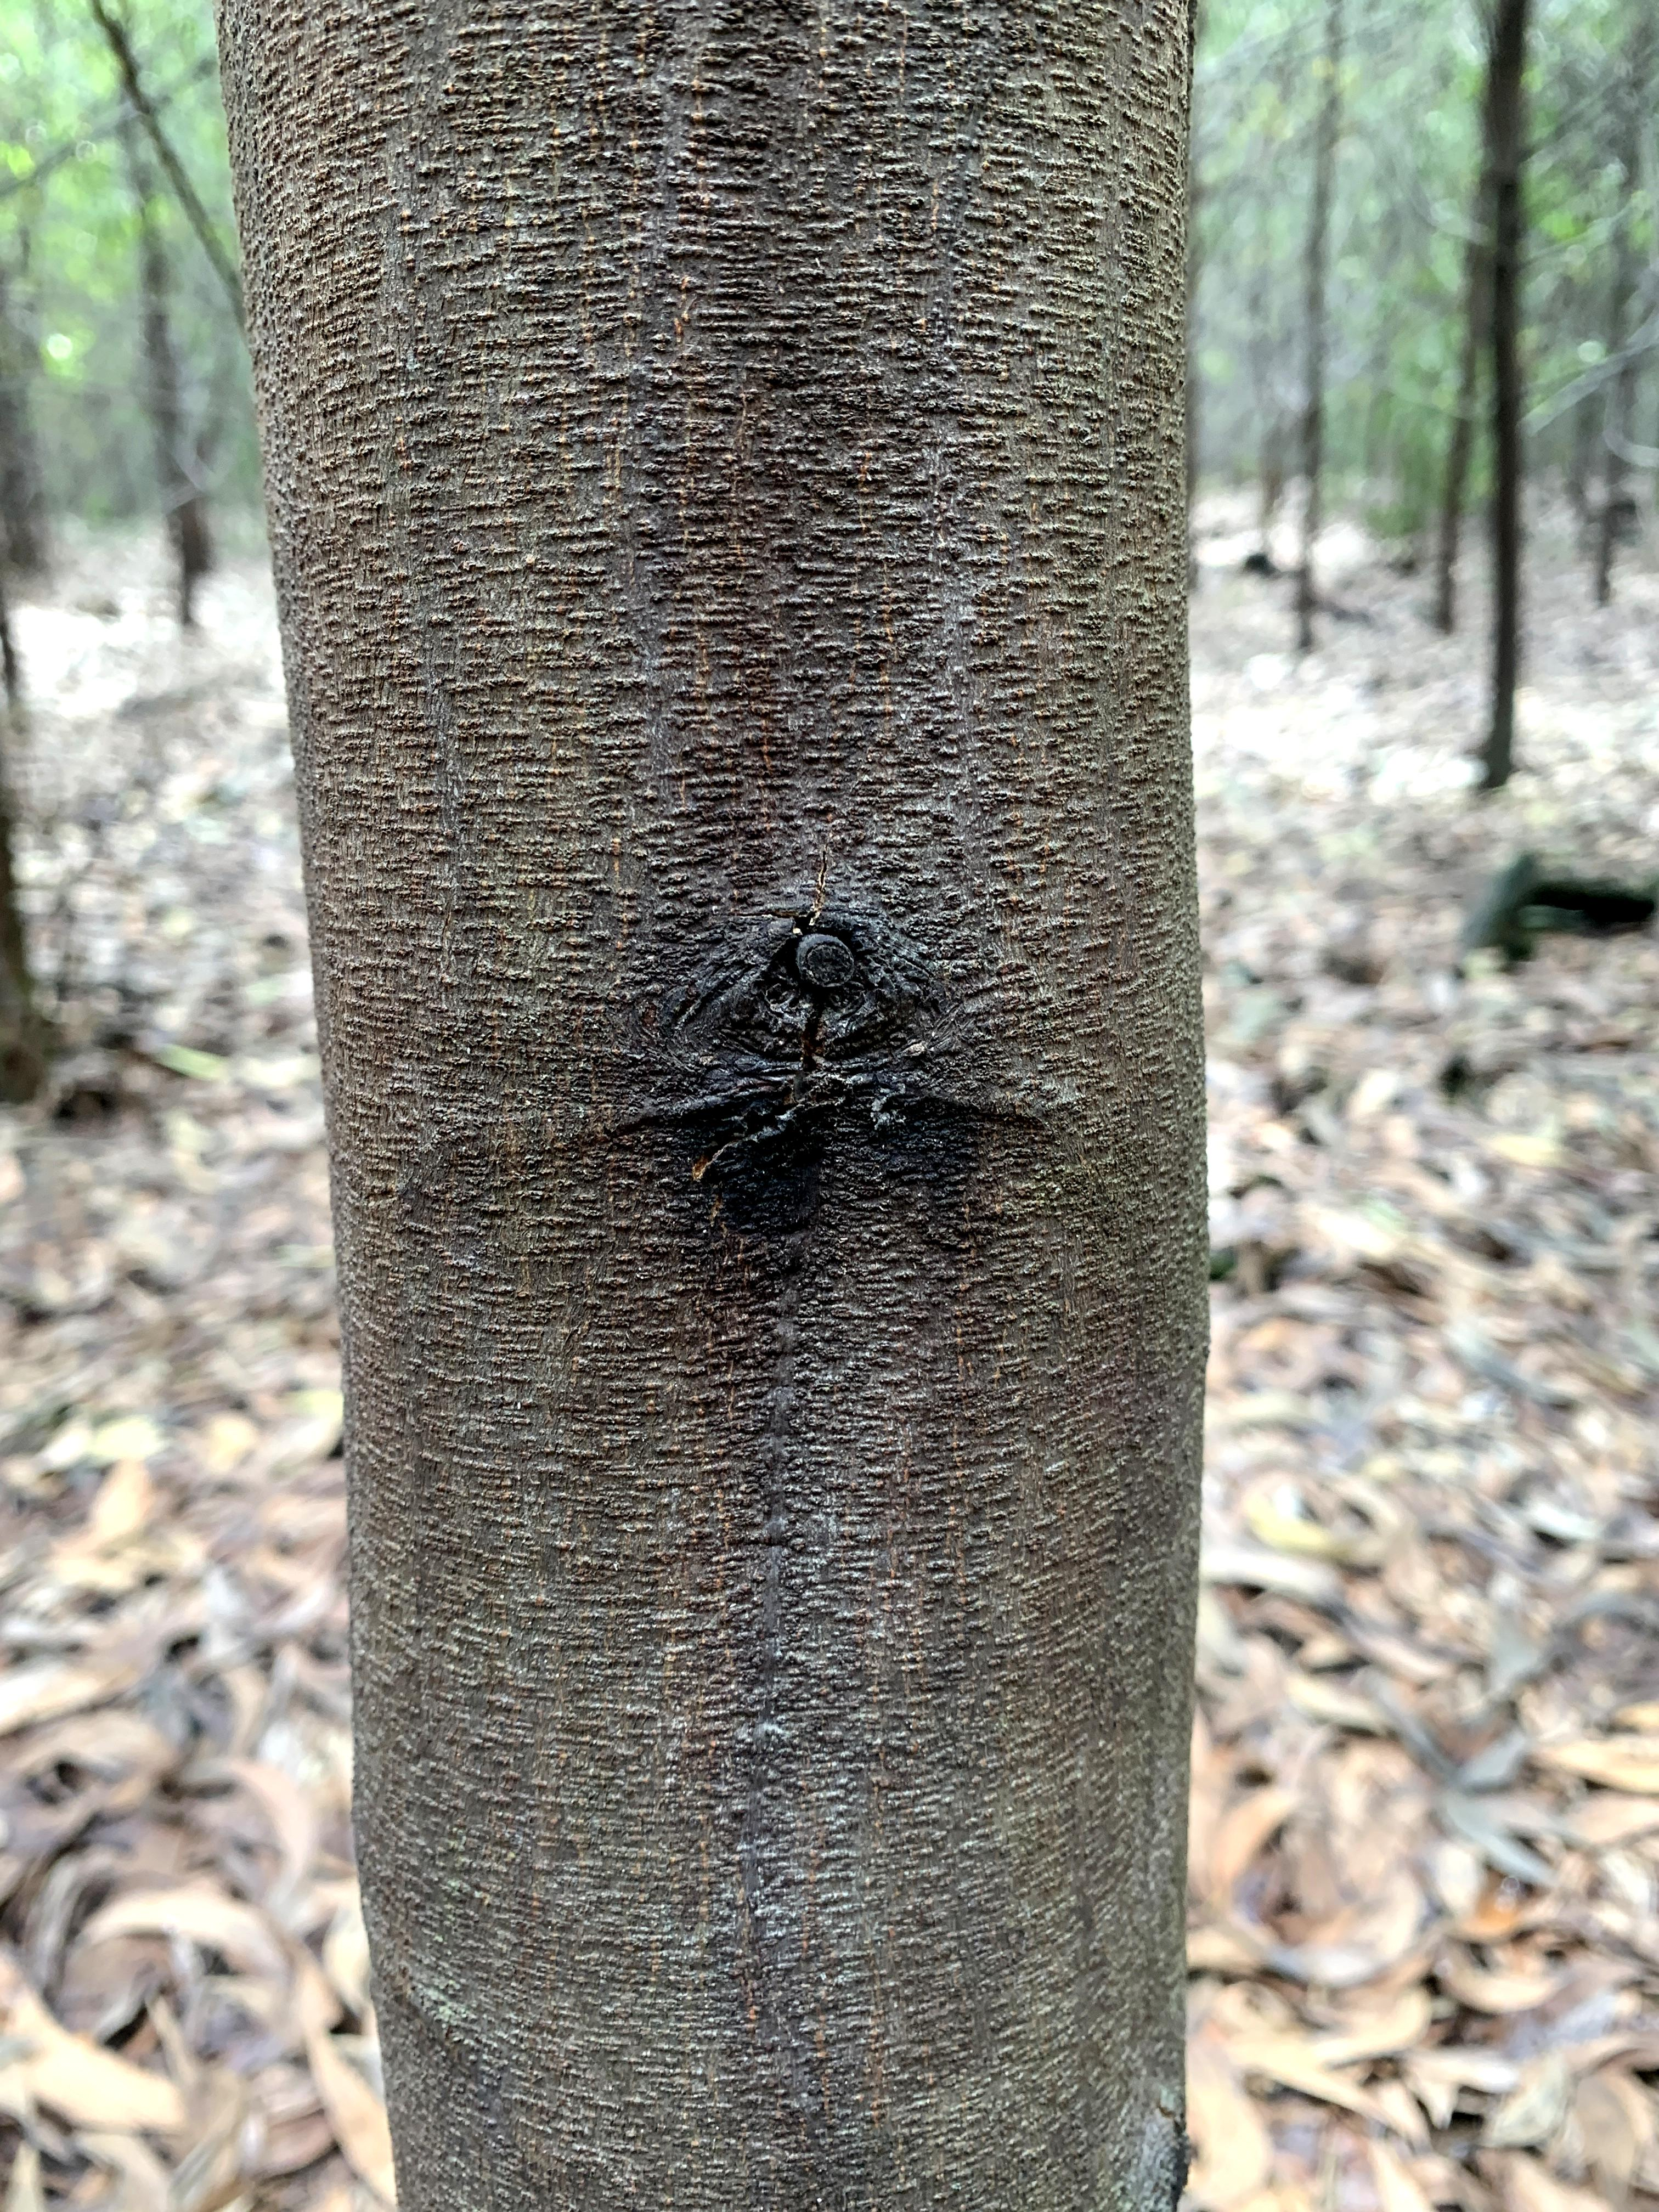Stem Borer: (472, 819, 1039, 1296)
